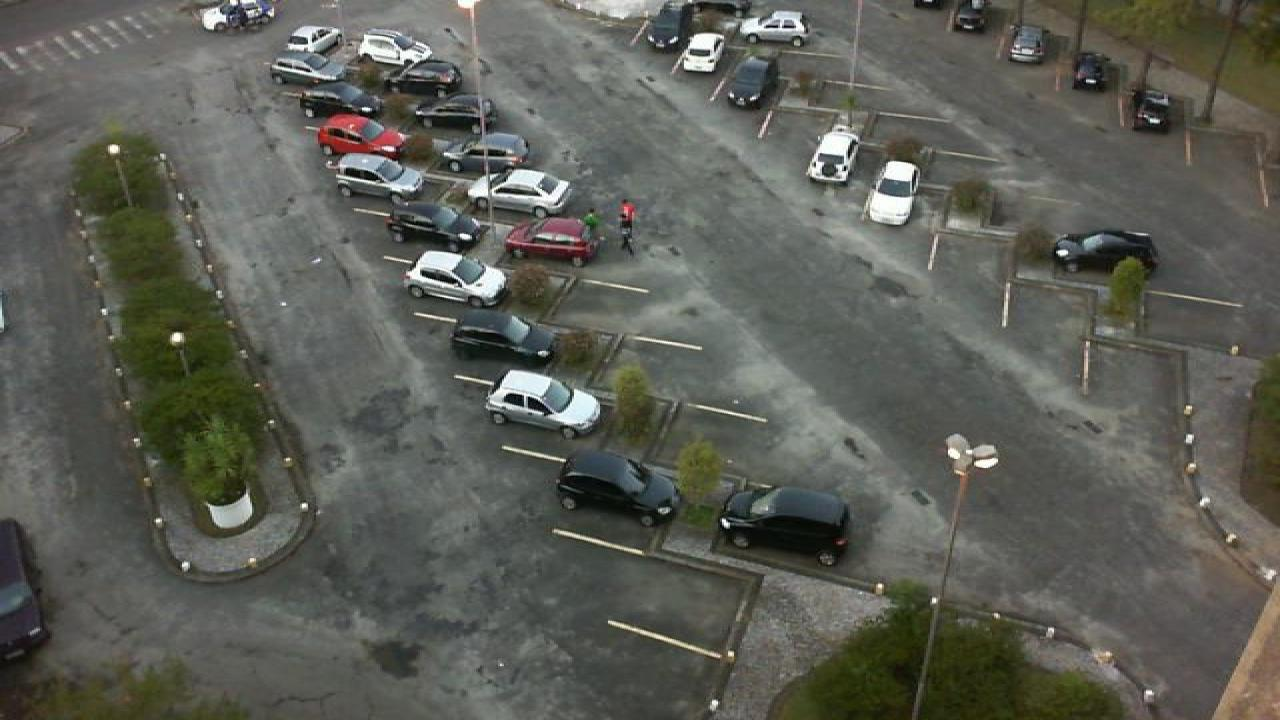Car: (714, 484, 852, 568), (552, 448, 682, 528), (480, 368, 604, 439), (448, 307, 562, 366), (402, 250, 512, 306), (380, 199, 488, 250), (464, 169, 574, 219), (1050, 227, 1162, 276), (500, 216, 598, 268), (320, 153, 426, 199), (314, 112, 408, 158), (436, 132, 530, 178), (866, 160, 926, 226), (720, 53, 784, 112), (804, 124, 864, 184), (296, 82, 384, 122), (410, 92, 494, 132), (386, 58, 466, 98), (354, 28, 432, 68), (736, 9, 814, 46), (642, 0, 696, 52), (266, 55, 350, 88), (196, 0, 276, 34), (676, 31, 726, 74), (282, 25, 344, 58), (1132, 88, 1174, 132), (1070, 50, 1114, 91), (1006, 24, 1048, 63), (950, 0, 988, 33)
